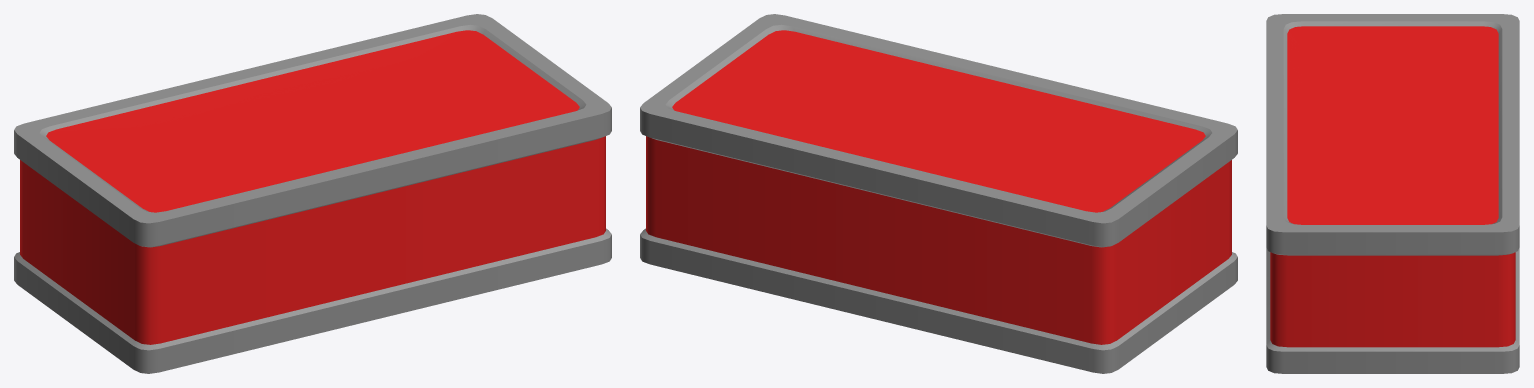
Rendered from Exit_cap.FBX.
The picture shows the model from 3 angles, left to right: view 1: azimuth 30°, elevation 25°; view 2: azimuth 150°, elevation 25°; view 3: azimuth 270°, elevation 25°; orthographic projection. The views are drawn at different scales.
Parts seen in each view (by area): view 1: Exit_Cap; view 2: Exit_Cap; view 3: Exit_Cap.
Part boxes in pixels (x1,y1,x2,y2): Exit_Cap: [14, 14, 611, 373]; Exit_Cap: [640, 14, 1237, 373]; Exit_Cap: [1266, 14, 1519, 373].
Bounding box in the file's own units: 18.5 × 5.6 × 9.08.
